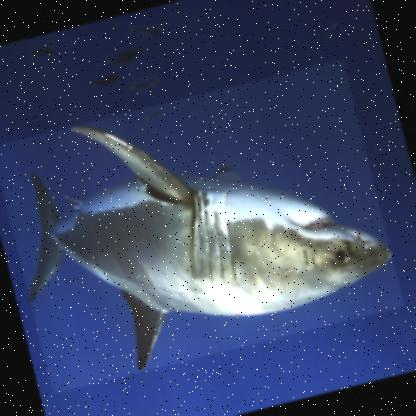white-shark: (0, 58, 406, 395)
